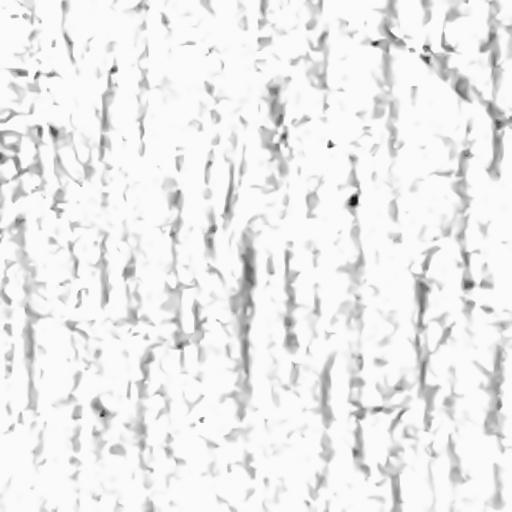egg: (347, 192, 358, 207)
